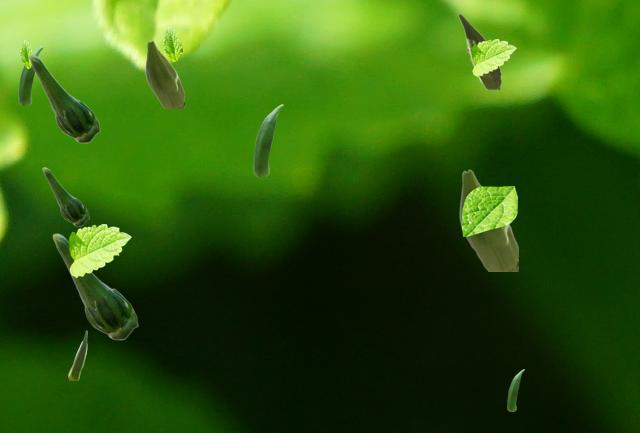okra: (52, 233, 137, 339), (28, 54, 99, 142), (459, 169, 517, 270), (458, 13, 500, 88), (42, 167, 88, 225), (145, 40, 183, 107), (253, 104, 282, 175), (18, 46, 42, 104), (68, 330, 86, 379), (507, 369, 523, 410)
